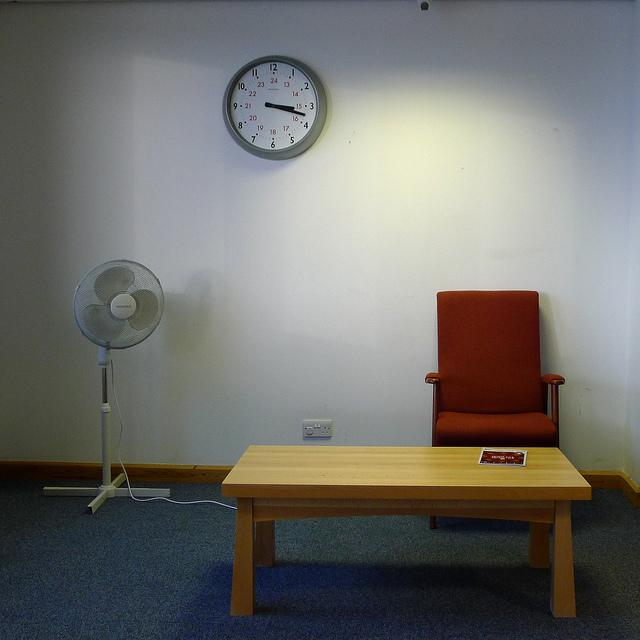chair: (427, 291, 568, 531)
dining table: (222, 444, 592, 617)
